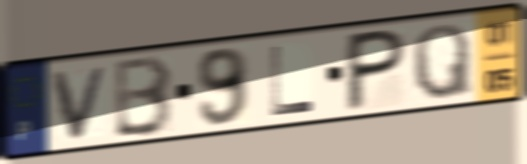9: (194, 44, 254, 130)
B: (112, 52, 177, 141)
L: (267, 42, 318, 119)
P: (341, 26, 410, 116)
Q: (409, 21, 476, 103)
V: (49, 62, 113, 143)
